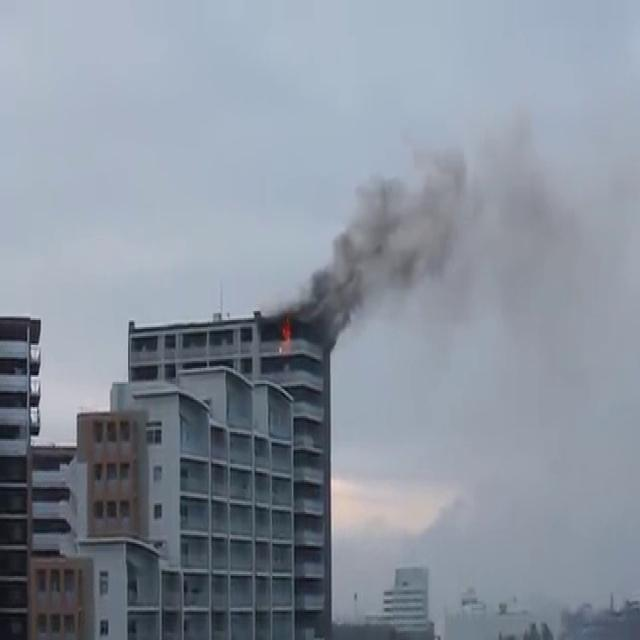Smoke: (286, 108, 536, 358)
